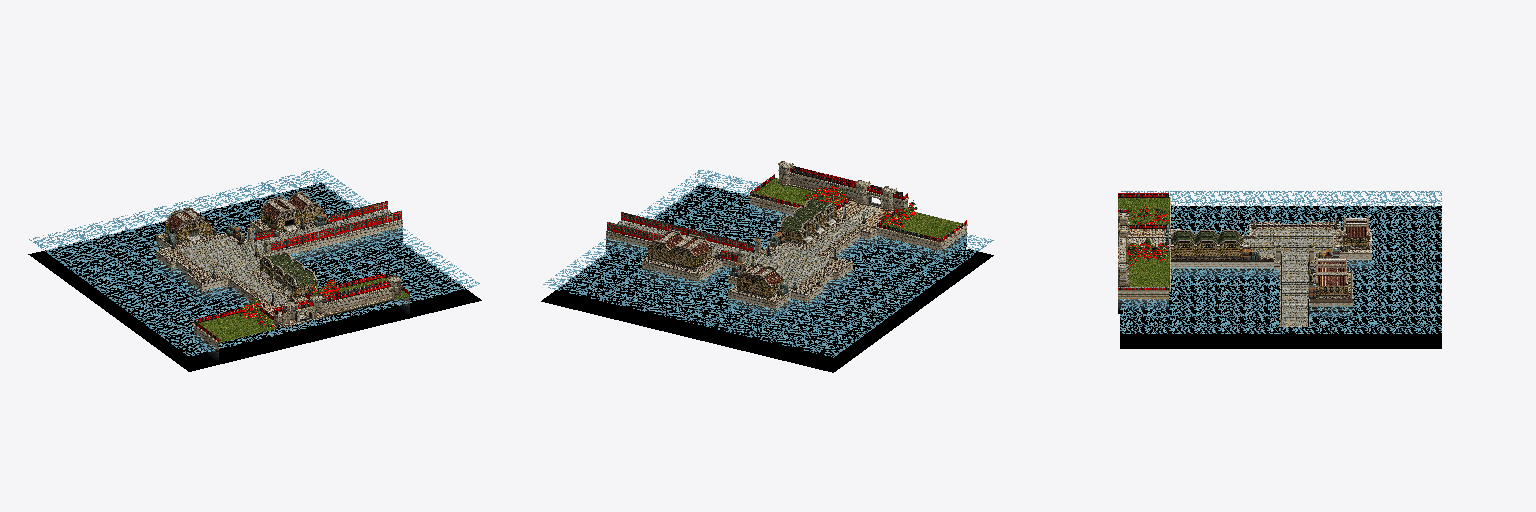
The picture shows the model from 3 angles: view 1: azimuth 30°, elevation 25°; view 2: azimuth 150°, elevation 25°; view 3: azimuth 270°, elevation 25°; orthographic projection.
Parts seen in each view (by area): view 1: Object.010; view 2: Object.010; view 3: Object.010.
Part boxes in pixels (left/top/right/bottom): Object.010: left=28, top=168, right=481, bottom=371; Object.010: left=541, top=161, right=993, bottom=372; Object.010: left=1118, top=191, right=1441, bottom=348.
Bounding box in the file's own units: 110 × 15.8 × 106.
18 materials, 18 textured.